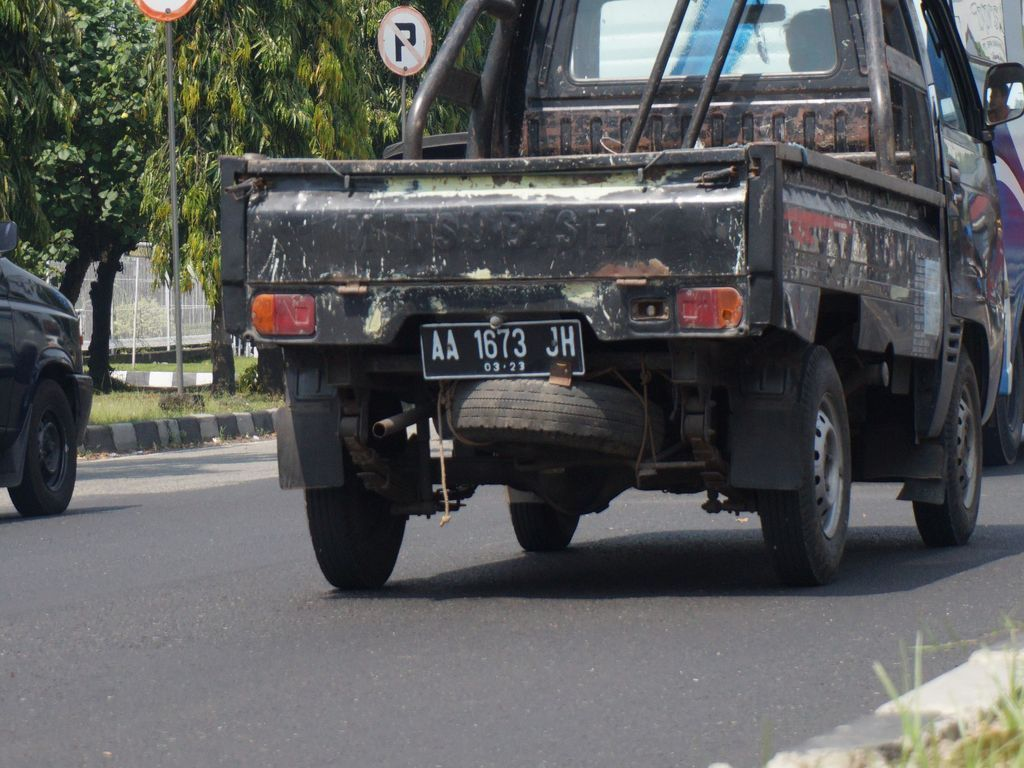plate: (425, 325, 576, 373)
